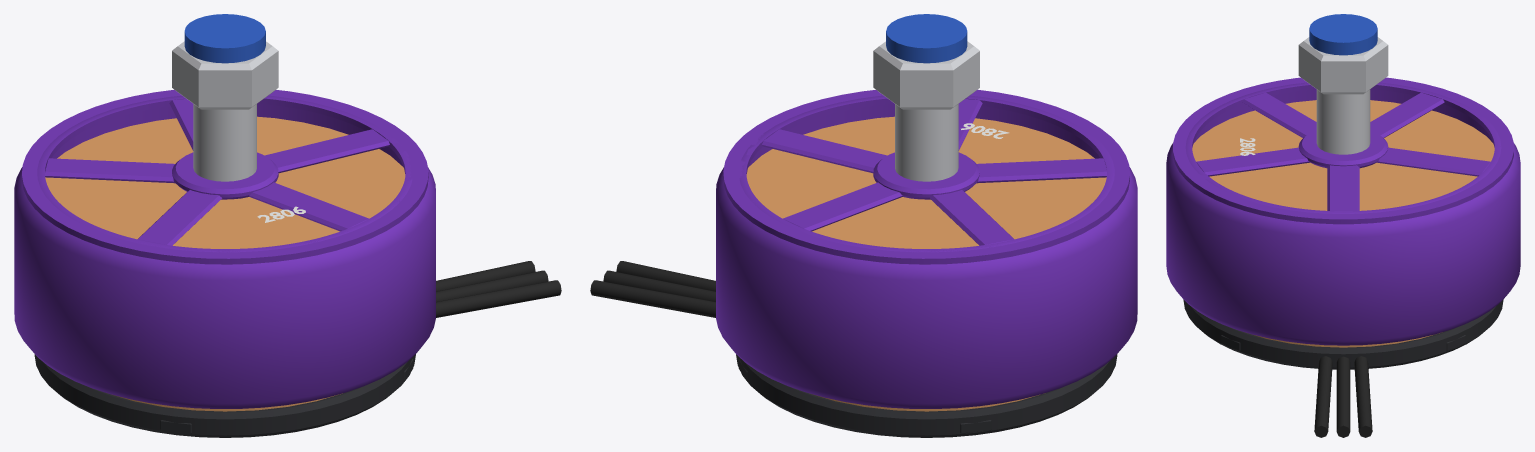
Rendered from motor_m2806.glb.
The picture shows the model from 3 angles, left to right: view 1: azimuth 30°, elevation 25°; view 2: azimuth 150°, elevation 25°; view 3: azimuth 270°, elevation 25°; orthographic projection. The views are drawn at different scales.
Parts seen in each view (by area): view 1: motor_campana, motor_techo, techo_cobre, motor_base, motor_tuerca, motor_eje, motor_cables, tuerca_nylon; view 2: motor_campana, motor_techo, techo_cobre, motor_base, motor_tuerca, motor_eje, motor_cables, tuerca_nylon; view 3: motor_campana, motor_techo, techo_cobre, motor_base, motor_tuerca, motor_cables, motor_eje, tuerca_nylon, motor_bobinado.
Boxes of the visible parts, left/top/right/bottom form: motor_campana: left=14, top=95, right=435, bottom=408; motor_techo: left=22, top=89, right=428, bottom=264; techo_cobre: left=45, top=116, right=405, bottom=248; motor_base: left=34, top=354, right=415, bottom=437; motor_tuerca: left=172, top=41, right=278, bottom=109; motor_eje: left=193, top=104, right=256, bottom=181; motor_cables: left=436, top=261, right=561, bottom=317; tuerca_nylon: left=184, top=14, right=265, bottom=63; motor_campana: left=716, top=95, right=1137, bottom=408; motor_techo: left=723, top=89, right=1129, bottom=264; techo_cobre: left=746, top=116, right=1106, bottom=248; motor_base: left=736, top=354, right=1117, bottom=437; motor_tuerca: left=873, top=41, right=979, bottom=109; motor_eje: left=895, top=104, right=958, bottom=181; motor_cables: left=590, top=261, right=715, bottom=317; tuerca_nylon: left=886, top=14, right=967, bottom=63; motor_campana: left=1166, top=82, right=1520, bottom=345; motor_techo: left=1173, top=77, right=1513, bottom=224; techo_cobre: left=1192, top=100, right=1494, bottom=210; motor_base: left=1183, top=299, right=1503, bottom=369; motor_tuerca: left=1298, top=37, right=1388, bottom=94; motor_cables: left=1314, top=356, right=1372, bottom=437; motor_eje: left=1316, top=89, right=1370, bottom=154; tuerca_nylon: left=1309, top=14, right=1377, bottom=55; motor_bobinado: left=1247, top=333, right=1439, bottom=347.
Bounding box in the file's own units: 0.0456 × 0.0288 × 0.0332.
